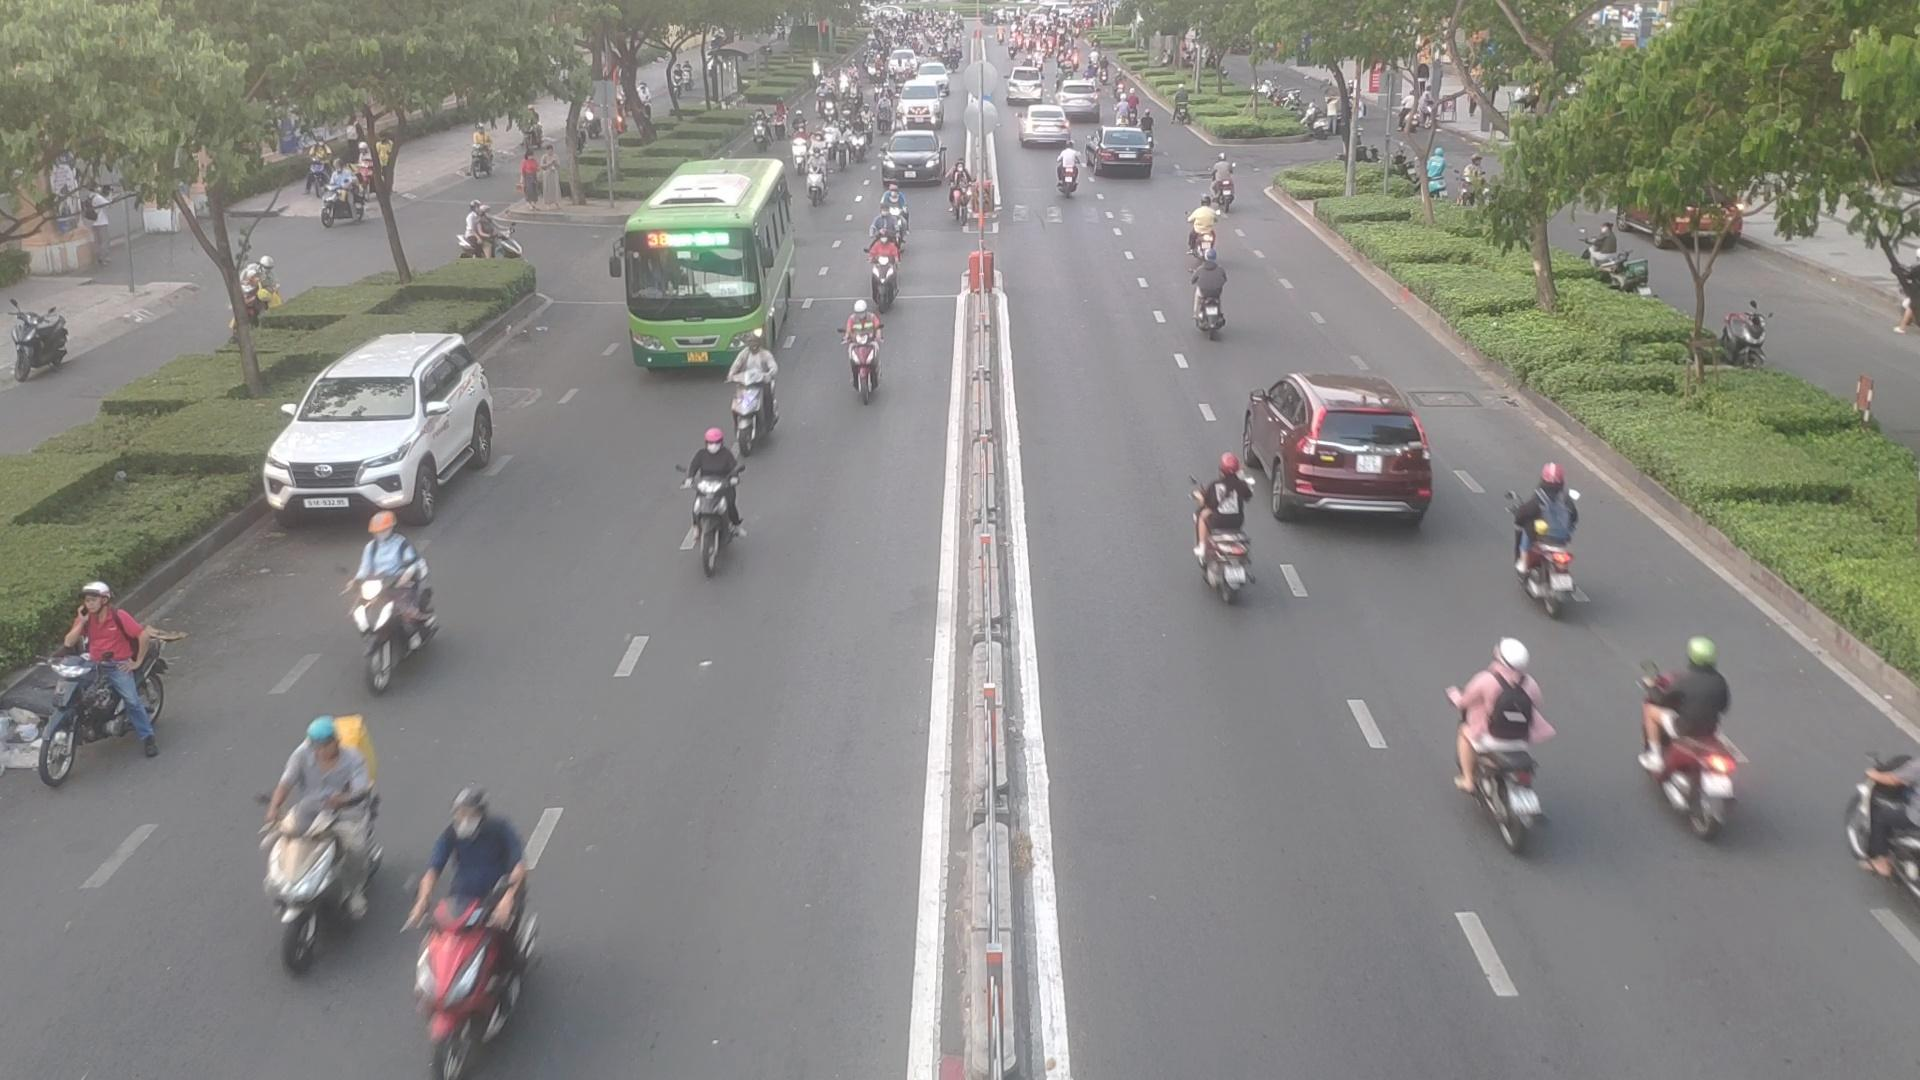bus: (611, 166, 796, 375)
car: (270, 334, 508, 530), (1247, 371, 1433, 527), (1201, 447, 1255, 617), (884, 135, 953, 189), (1084, 131, 1156, 179), (1019, 107, 1073, 148)
motorbike: (404, 789, 530, 1071), (251, 724, 378, 959), (20, 585, 169, 778), (1448, 645, 1561, 844), (1648, 641, 1753, 831), (349, 533, 440, 683), (669, 429, 752, 574), (1851, 749, 1920, 913), (1502, 476, 1588, 607), (717, 338, 779, 438), (835, 306, 891, 407), (1191, 260, 1238, 340), (858, 233, 905, 306), (1182, 203, 1218, 258), (1051, 149, 1085, 200)
